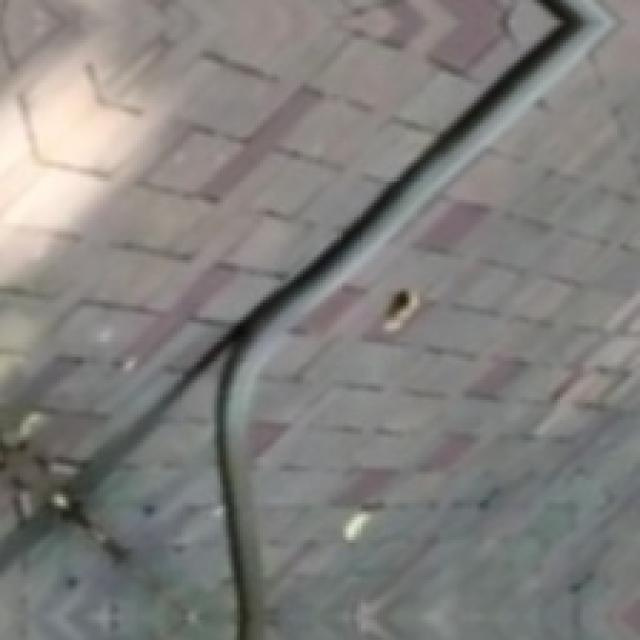king cobra: (274, 0, 637, 637), (0, 360, 231, 637)
